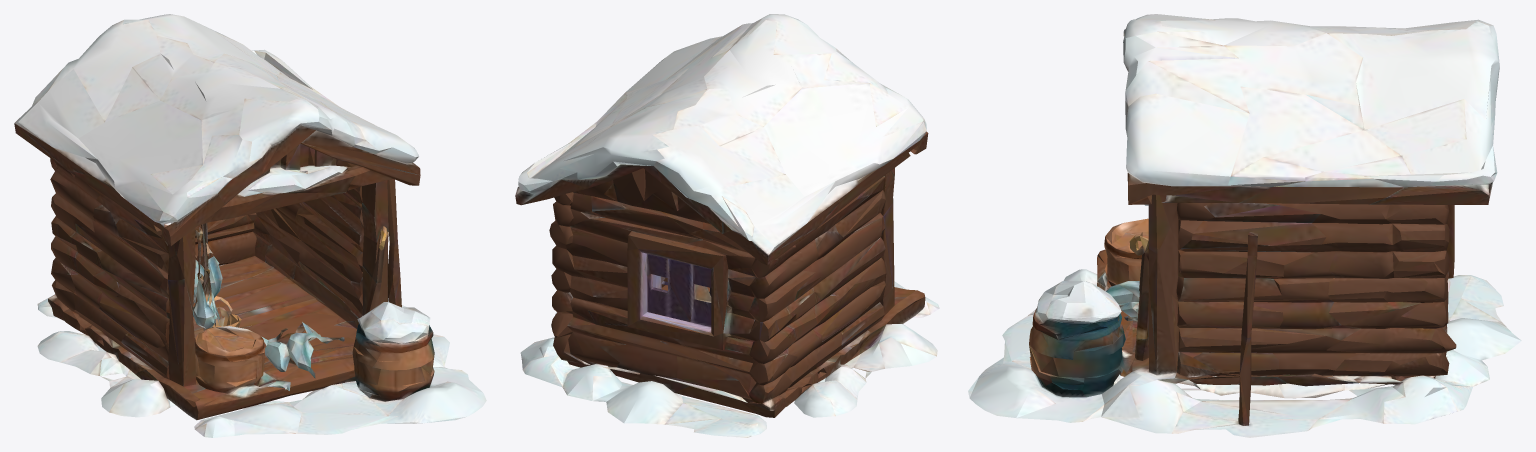
The model's file is fishery.glb.
3 renders of one model, left to right at view 1: azimuth 30°, elevation 25°; view 2: azimuth 150°, elevation 25°; view 3: azimuth 270°, elevation 25°, orthographic. The views are drawn at different scales.
Size of the model in its own units: 1.54 by 1.23 by 1.9.
Materials: 1 (1 with a texture image).
